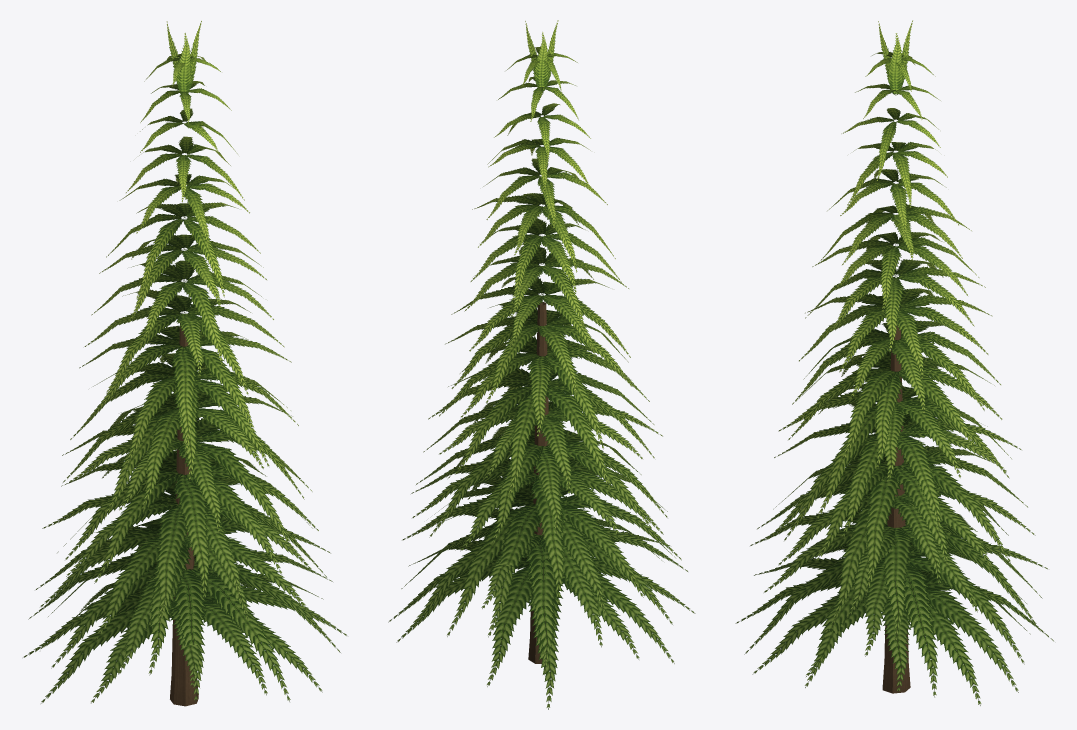
File: fir2_b.glb
3 views of the same model, side by side, from view 1: azimuth 30°, elevation 25°; view 2: azimuth 150°, elevation 25°; view 3: azimuth 270°, elevation 25° (orthographic). The views are drawn at different scales.
Parts seen in each view (by area): view 1: fir2_b; view 2: fir2_b; view 3: fir2_b.
Part boxes in pixels (<box>): fir2_b: <box>23,21,346,706</box>; fir2_b: <box>388,20,695,709</box>; fir2_b: <box>735,20,1053,705</box>.
Bounding box in the file's own units: 3.64 × 8.04 × 3.64.
Materials: 2 (2 with a texture image).
